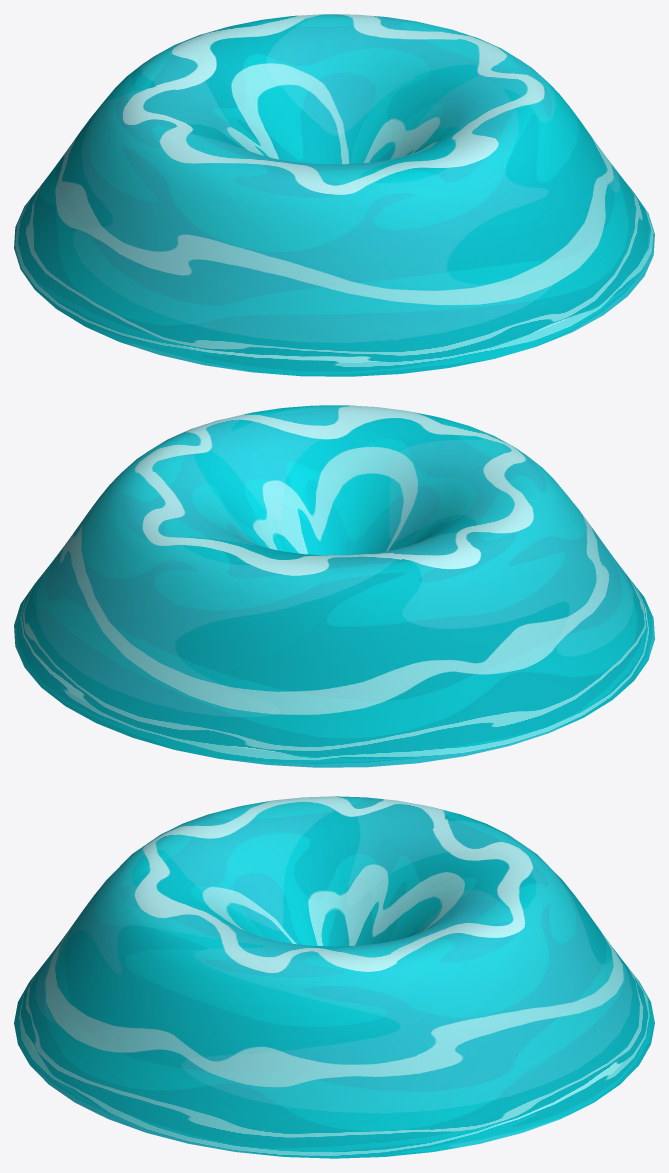
The model's file is Water_Fountain_1.fbx.
3 renders of one model, top to bottom at view 1: azimuth 30°, elevation 25°; view 2: azimuth 150°, elevation 25°; view 3: azimuth 270°, elevation 25°, orthographic.
Parts seen in each view (by area): view 1: pCylinder1; view 2: pCylinder1; view 3: pCylinder1.
Part boxes in pixels (x1,y1,x2,y2): pCylinder1: (14,14,654,376); pCylinder1: (14,405,654,767); pCylinder1: (14,796,654,1158).
Size of the model in its own units: 1.66 by 0.4105 by 1.66.
